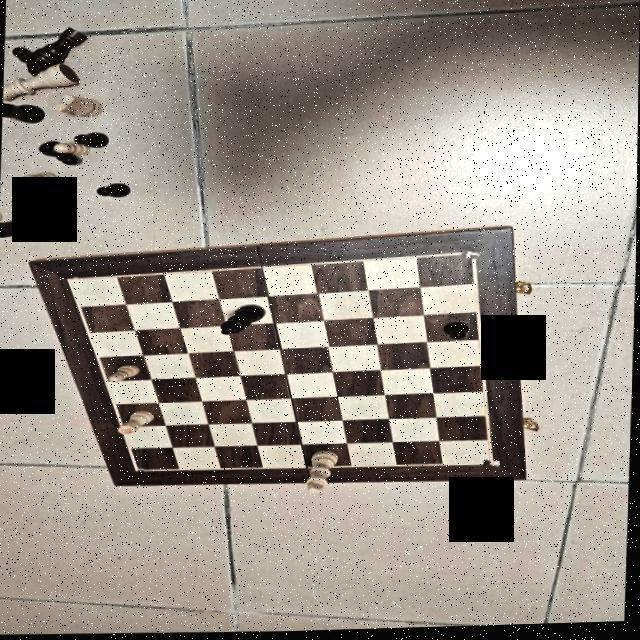chess-table-corners: (464, 251, 482, 260), (486, 462, 502, 472), (61, 276, 79, 282), (132, 467, 146, 473)
